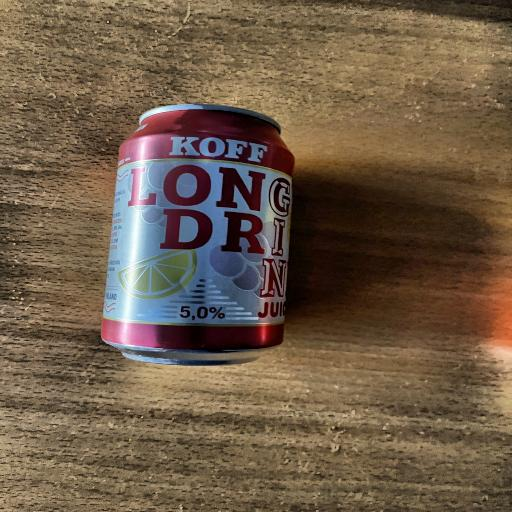koff: (98, 88, 299, 373)
